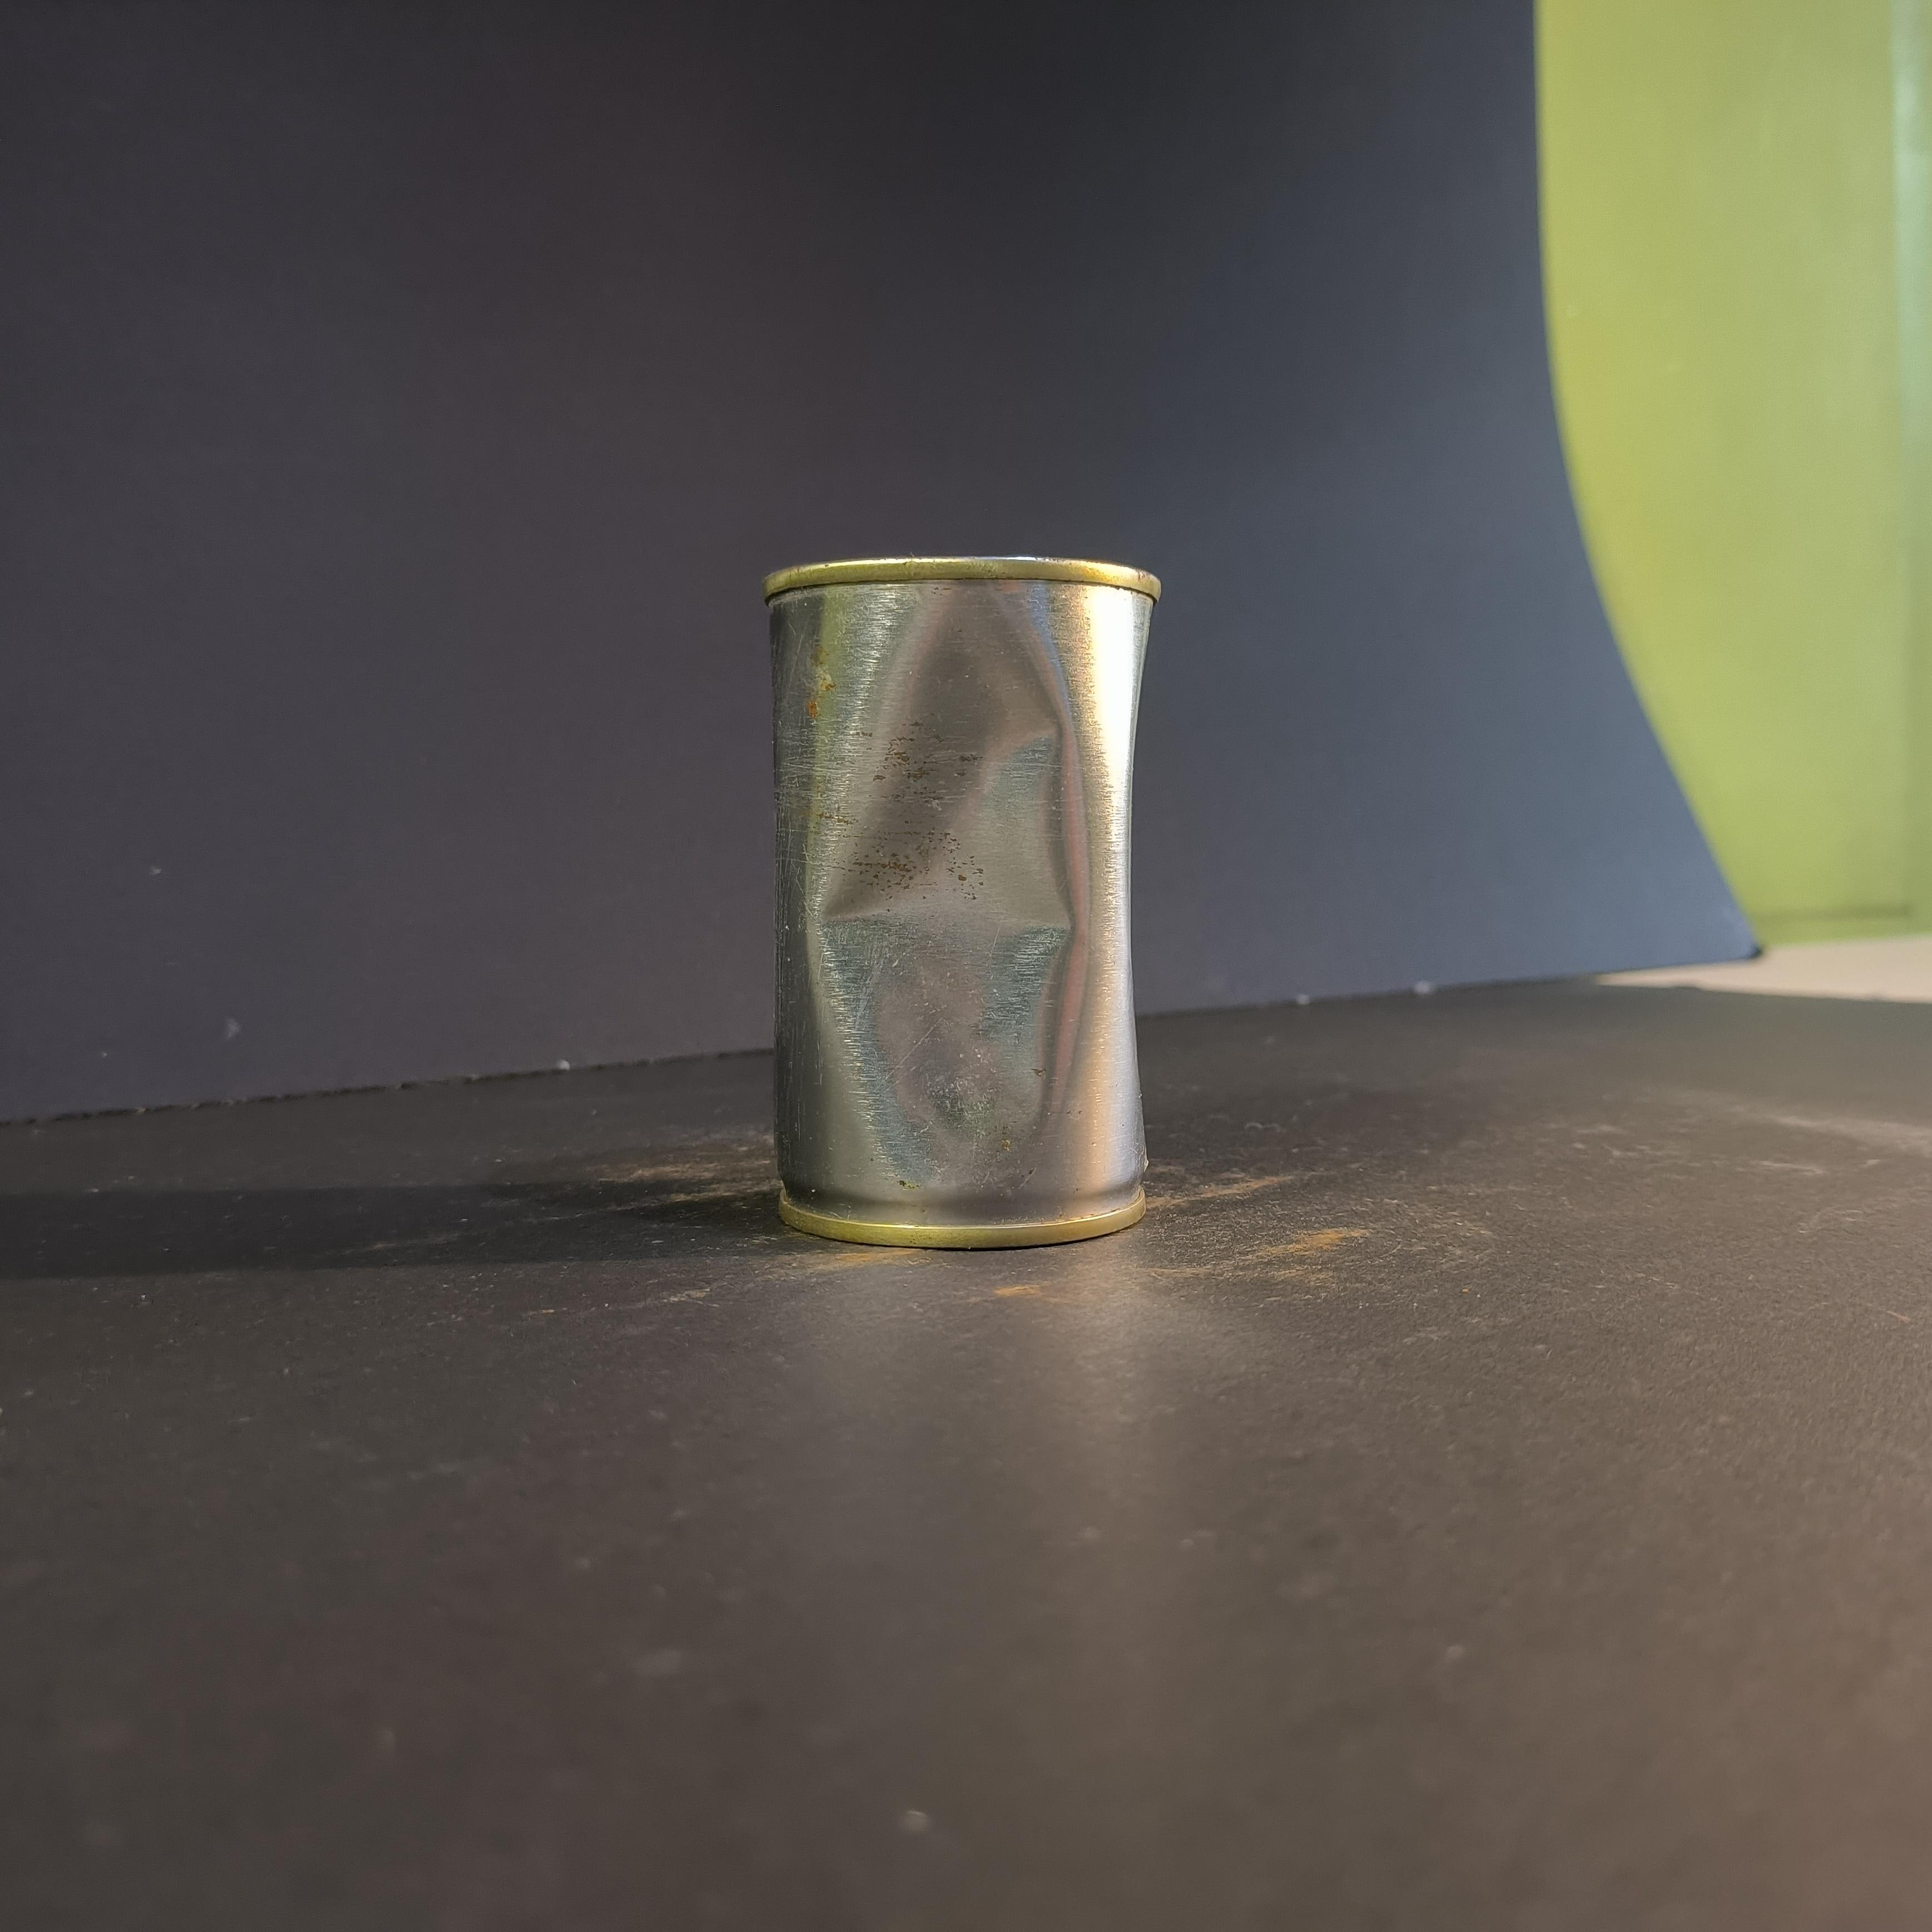Dented: (738, 531, 1182, 1233)
